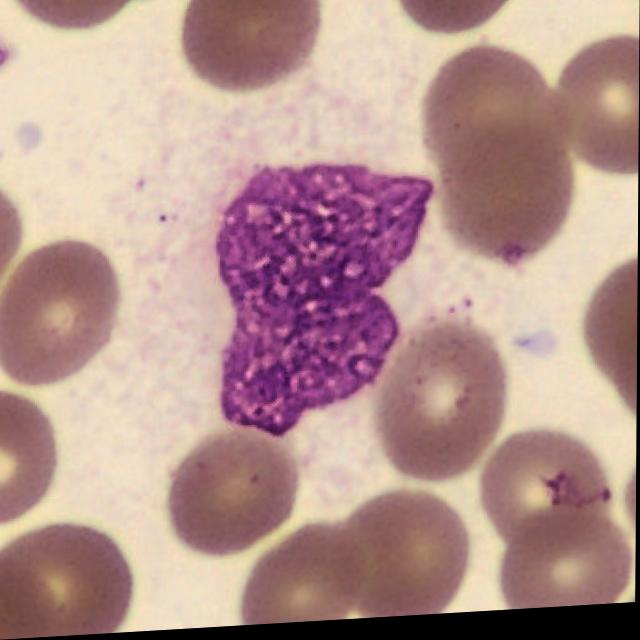Restos celulares: (215, 166, 433, 437)
